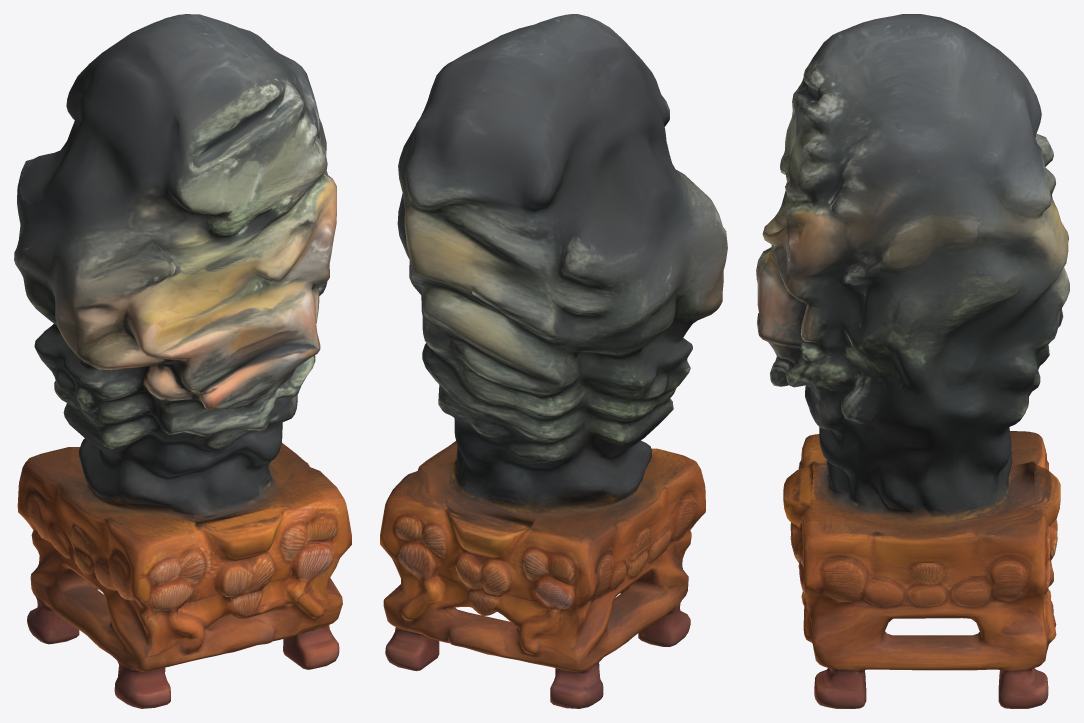
3 views of the same model, side by side, from view 1: azimuth 30°, elevation 25°; view 2: azimuth 150°, elevation 25°; view 3: azimuth 270°, elevation 25° (orthographic). The views are drawn at different scales.
Visible parts, largest first — view 1: mesh_input; view 2: mesh_input; view 3: mesh_input.
Boxes of the visible parts, <box> form: mesh_input: <box>14,14,351,708</box>; mesh_input: <box>380,14,727,708</box>; mesh_input: <box>756,14,1069,708</box>.
Size of the model in its own units: 0.8748 by 1.9 by 0.8514.
Materials: 1 (1 with a texture image).
